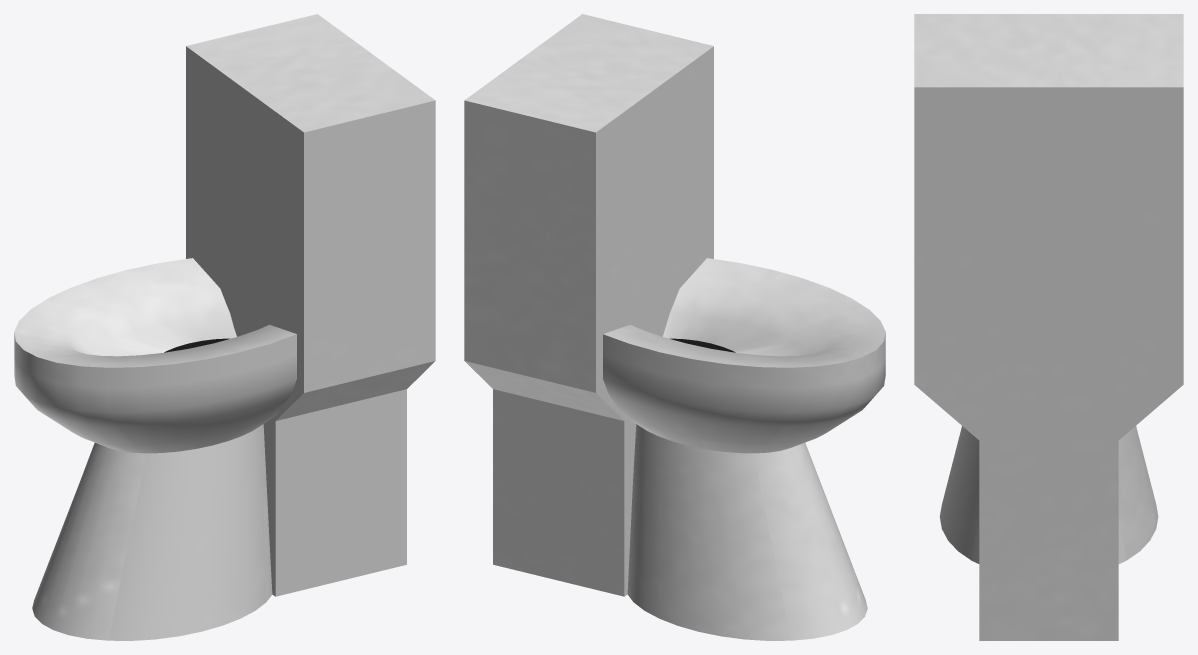
Rendered from Bathroom_WC.fbx.
3 views of the same model, side by side, from view 1: azimuth 30°, elevation 25°; view 2: azimuth 150°, elevation 25°; view 3: azimuth 270°, elevation 25° (orthographic). The views are drawn at different scales.
Visible parts, largest first — view 1: Bathroom_WC; view 2: Bathroom_WC; view 3: Bathroom_WC.
Part boxes in pixels (x1=…): Bathroom_WC: x1=14, y1=14, x2=435, y2=640; Bathroom_WC: x1=464, y1=14, x2=885, y2=640; Bathroom_WC: x1=914, y1=14, x2=1183, y2=640.
Size of the model in its own units: 88.91 by 117 by 51.54.
